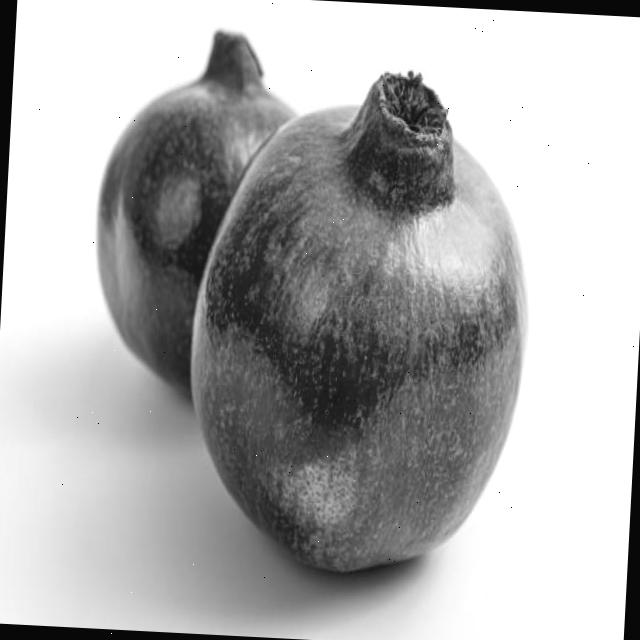Ripe: (174, 50, 544, 588), (84, 25, 289, 400)
